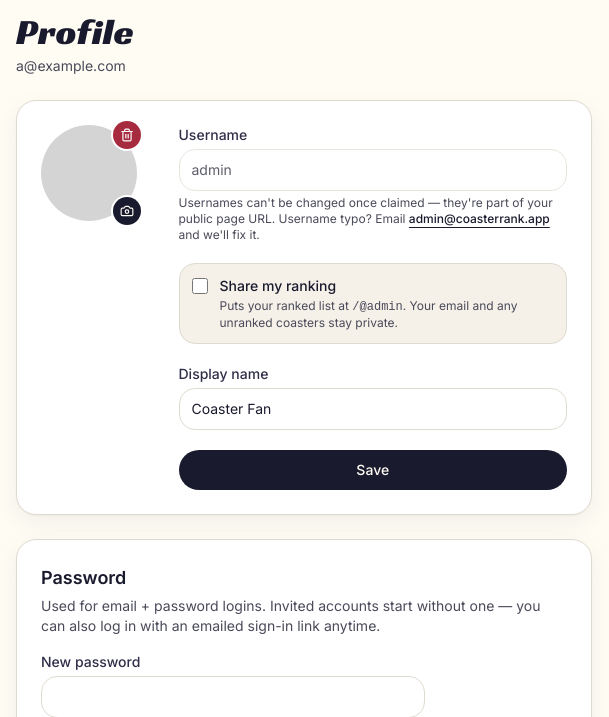
Test: ProfilePage › keeps a grandfathered reserved username locked and saves display name only
Expected: the field showing "admin" has attribute disabled, left=178, top=149, right=567, bottom=191
Click the button "Save" at (373,470), box left=178, top=450, right=567, bottom=490
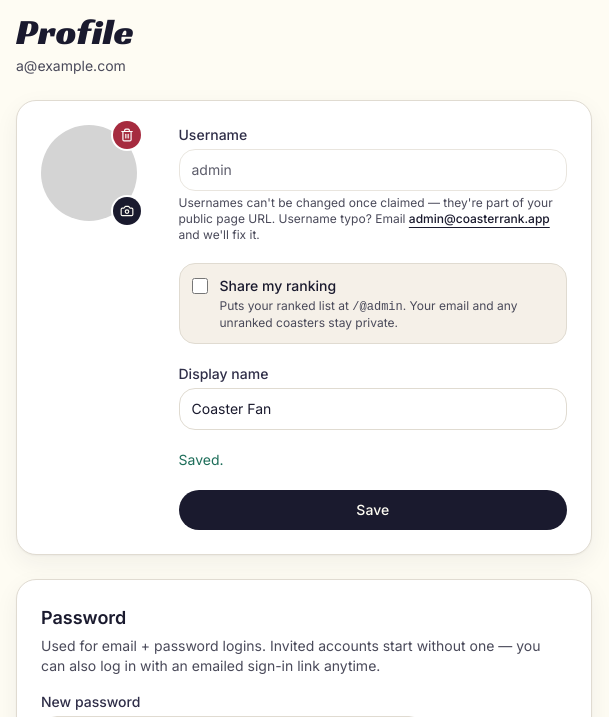
Expected: the text "Saved." is shown, left=178, top=451, right=224, bottom=468
